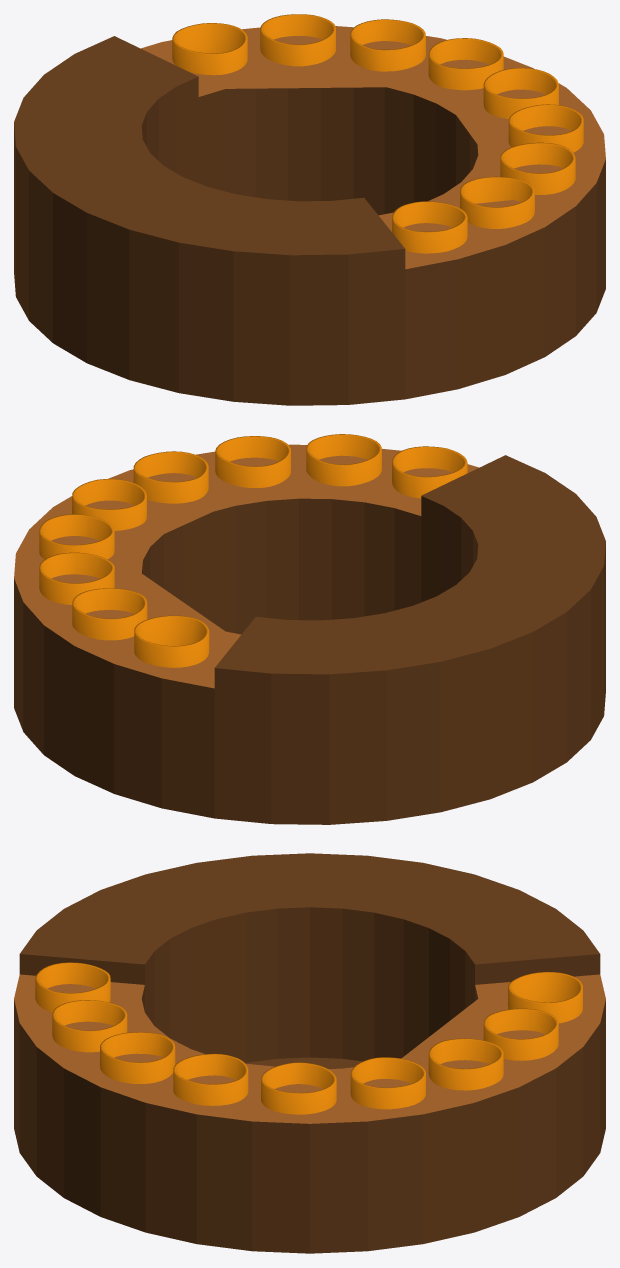
The model's file is MesaFix.fbx.
3 renders of one model, top to bottom at view 1: azimuth 30°, elevation 25°; view 2: azimuth 150°, elevation 25°; view 3: azimuth 270°, elevation 25°, orthographic.
Parts seen in each view (by area): view 1: PlataformaBase, Emebellecedor, 9, 2, 7, 8, 1, 6, 3, 5, 4; view 2: PlataformaBase, Emebellecedor, 9, 2, 3, 8, 4, 7, 5, 1, 6; view 3: PlataformaBase, Emebellecedor, 7, 6, 5, 4, 3, 8, 9, 2, 1.
Part boxes in pixels (left/top/right/bottom): PlataformaBase: left=14, top=36, right=605, bottom=405; Emebellecedor: left=141, top=26, right=605, bottom=269; 9: left=172, top=23, right=247, bottom=75; 2: left=460, top=176, right=534, bottom=228; 7: left=350, top=19, right=425, bottom=71; 8: left=260, top=14, right=335, bottom=66; 1: left=392, top=201, right=467, bottom=253; 6: left=428, top=38, right=503, bottom=90; 3: left=500, top=142, right=575, bottom=194; 5: left=483, top=68, right=558, bottom=118; 4: left=508, top=104, right=583, bottom=152; PlataformaBase: left=14, top=455, right=605, bottom=824; Emebellecedor: left=14, top=444, right=478, bottom=688; 9: left=134, top=615, right=209, bottom=667; 2: left=306, top=434, right=381, bottom=486; 3: left=215, top=436, right=290, bottom=487; 8: left=72, top=588, right=147, bottom=640; 4: left=133, top=451, right=208, bottom=503; 7: left=39, top=552, right=114, bottom=604; 5: left=72, top=479, right=146, bottom=530; 1: left=392, top=446, right=467, bottom=498; 6: left=39, top=514, right=114, bottom=559; PlataformaBase: left=14, top=853, right=605, bottom=1253; Emebellecedor: left=14, top=974, right=605, bottom=1123; 7: left=428, top=1038, right=503, bottom=1090; 6: left=350, top=1057, right=425, bottom=1109; 5: left=261, top=1062, right=336, bottom=1114; 4: left=173, top=1053, right=248, bottom=1105; 3: left=100, top=1032, right=175, bottom=1083; 8: left=483, top=1008, right=558, bottom=1060; 9: left=508, top=972, right=582, bottom=1023; 2: left=52, top=1000, right=127, bottom=1052; 1: left=35, top=962, right=110, bottom=1012.
Bounding box in the file's own units: 1574 × 441 × 1574.
